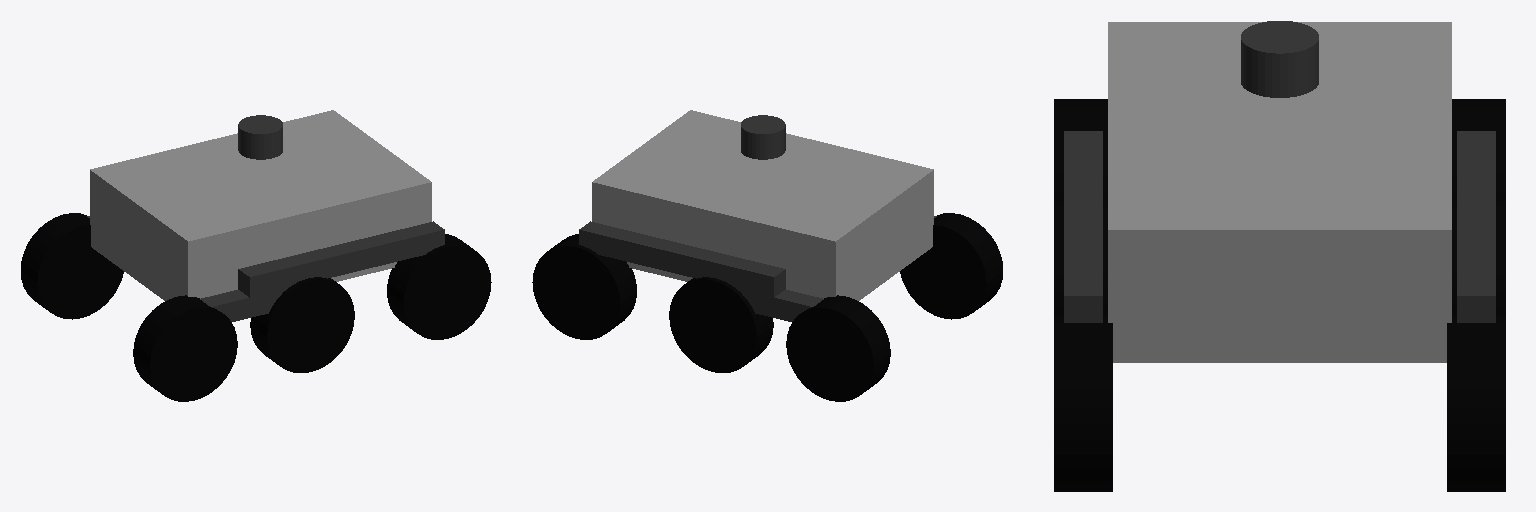
robot.urdf — benrover_skeleton:
<!--

  Squelette générique de URDF pour un rover 6 roues a suspension rocker-bogie
  (type Mars rover : Sojourner / Spirit-Opportunity / Curiosity).

  VERSION ADAPTEE POUR GAZEBO GARDEN (gz-sim7), PAS Gazebo Classic :
    - Le mesh manquant (base_link.STL) est remplace par la primitive box
      deja prevue en repli dans le fichier original.
    - Les 4 plugins <gazebo><plugin filename="libgazebo_ros_*.so"> (Classic)
      ont ete remplaces par leurs equivalents gz-sim :
        libgazebo_ros_diff_drive.so           -> gz-sim-diff-drive-system
        libgazebo_ros_joint_state_publisher.so -> gz-sim-joint-state-publisher-system
        libgazebo_ros_ray_sensor.so (lidar)     -> <sensor type="gpu_lidar">
        libgazebo_ros_imu_sensor.so             -> <sensor type="imu">
    - IMPORTANT : ces plugins/capteurs gz-sim publient uniquement sur le bus
      Gazebo Transport, pas directement sur des topics ROS 2. Un pont
      ros_gz_bridge (fichier de config separe) sera necessaire pour exposer
      /cmd_vel, /joint_states, /scan, /imu cote ROS 2. C'est l'etape suivante,
      pas geree dans ce fichier.
    - Objectif de cette version : permettre un spawn + un premier test de
      /cmd_vel et /joint_states, PAS representer fidelement BenRover.
      Dimensions/masses restent des valeurs generiques a affiner plus tard
      avec le vrai CAO SolidWorks (mates + export SW2URDF).

  CORRECTIONS APPLIQUEES (par rapport a la version precedente) :
    1. rocker_right : centre de masse <inertial><origin> corrige de
       "0.15 0 -0.02" a "0 0 -0.02" (incoherent avec rocker_left et avec
       la geometrie visuelle/collision, identique des deux cotes) -
       causait un chassis visuellement incline d'un cote.
    2. Les 4 joints de direction (steer_front_left/right,
       steer_rear_left/right) sont passes de type="revolute" a
       type="fixed". En revolute + simple damping/friction (sans ressort
       de rappel), rien ne les maintenait a 0 : l'inertie des roues lors
       des accelerations/freinages les faisait deriver de facon chaotique
       dans leur plage autorisee (+/-0.6 rad), d'ou le mouvement "aleatoire"
       observe en ligne droite. Aucune perte de capacite de virage : le
       rover tourne par difference de vitesse gauche/droite (skid steering
       via DiffDrive), pas par ces joints. Un vrai controleur de direction
       pourra etre ajoute plus tard en repassant ces joints en revolute
       avec un plugin qui les pilote activement.
-->
<robot name="benrover_skeleton">
<material name="chassis_grey">
<color rgba="0.6 0.6 0.6 1.0"/>
</material>
<material name="rocker_dark">
<color rgba="0.25 0.25 0.25 1.0"/>
</material>
<material name="wheel_black">
<color rgba="0.05 0.05 0.05 1.0"/>
</material>
<!--
 ===================== CHASSIS ===================== 
-->
<link name="base_link">
<inertial>
<origin xyz="0 0 0" rpy="0 0 0"/>
<mass value="12.0"/>
<inertia ixx="0.15" ixy="0" ixz="0" iyy="0.20" iyz="0" izz="0.25"/>
</inertial>
<visual>
<origin xyz="0 0 0" rpy="0 0 0"/>
<geometry>
<!-- Mesh STL non disponible pour l'instant -> primitive de repli en attendant le vrai CAO -->
<box size="0.5 0.35 0.15"/>
</geometry>
<material name="chassis_grey"/>
</visual>
<collision>
<origin xyz="0 0 0" rpy="0 0 0"/>
<geometry>
<box size="0.5 0.35 0.15"/>
</geometry>
</collision>
</link>
<!--
 ===================== COTE GAUCHE ===================== 
-->
<!-- Rocker gauche : bras principal de suspension -->
<link name="rocker_left">
<inertial>
<origin xyz="0 0 -0.02" rpy="0 0 0"/>
<mass value="1.2"/>
<inertia ixx="0.01" ixy="0" ixz="0" iyy="0.02" iyz="0" izz="0.02"/>
</inertial>
<visual>
<origin xyz="0 0 -0.02" rpy="0 0 0"/>
<geometry>
<box size="0.40 0.04 0.04"/>
</geometry>
<material name="rocker_dark"/>
</visual>
<collision>
<origin xyz="0 0 -0.02" rpy="0 0 0"/>
<geometry>
<box size="0.40 0.04 0.04"/>
</geometry>
</collision>
</link>
<joint name="rocker_left_joint" type="fixed"> 
<!--
 Pivot du rocker sur le chassis. Axe Y = bascule avant/arriere. 
-->
<origin xyz="0.05 0.20 0.0" rpy="0 0 0"/>
<parent link="base_link"/>
<child link="rocker_left"/>
<axis xyz="0 1 0"/>
<limit lower="-0.6" upper="0.6" effort="50" velocity="1.0"/>
<dynamics damping="0.2" friction="0.1"/>
</joint>
<!--
 Point d'ancrage possible pour la barre differentielle (voir note en tete de fichier) 
-->
<!--
 Bogie gauche : porte les roues centrale et arriere 
-->
<link name="bogie_left">
<inertial>
<origin xyz="0 0 -0.02" rpy="0 0 0"/>
<mass value="0.8"/>
<inertia ixx="0.006" ixy="0" ixz="0" iyy="0.01" iyz="0" izz="0.01"/>
</inertial>
<visual>
<origin xyz="0 0 -0.02" rpy="0 0 0"/>
<geometry>
<box size="0.26 0.04 0.04"/>
</geometry>
<material name="rocker_dark"/>
</visual>
<collision>
<origin xyz="0 0 -0.02" rpy="0 0 0"/>
<geometry>
<box size="0.26 0.04 0.04"/>
</geometry>
</collision>
</link>
<joint name="bogie_left_joint" type="revolute">
<!-- Pivot du bogie en arriere du pivot du rocker. -->
<origin xyz="-0.20 0 -0.04" rpy="0 0 0"/>
<parent link="rocker_left"/>
<child link="bogie_left"/>
<axis xyz="0 1 0"/>
<limit lower="-0.4" upper="0.4" effort="30" velocity="1.0"/>
<dynamics damping="0.2" friction="0.1"/>
</joint>
<!-- Direction avant gauche -->
<link name="steer_front_left">
<inertial>
<mass value="0.1"/>
<inertia ixx="0.0005" ixy="0" ixz="0" iyy="0.0005" iyz="0" izz="0.0005"/>
</inertial>
</link>
<!-- Joint fige (voir note de correction en tete de fichier) -->
<joint name="steer_front_left_joint" type="fixed">
<!-- Roue avant en avant du pivot du rocker. -->
<origin xyz="0.20 0 -0.12" rpy="0 0 0"/>
<parent link="rocker_left"/>
<child link="steer_front_left"/>
</joint>
<!-- Roue avant gauche -->
<link name="wheel_front_left">
<inertial>
<mass value="0.6"/>
<inertia ixx="0.002" ixy="0" ixz="0" iyy="0.003" iyz="0" izz="0.002"/>
</inertial>
<visual>
<origin xyz="0 0 0" rpy="1.5708 0 0"/>
<geometry>
<cylinder radius="0.09" length="0.06"/>
</geometry>
<material name="wheel_black"/>
</visual>
<collision>
<origin xyz="0 0 0" rpy="1.5708 0 0"/>
<geometry>
<cylinder radius="0.09" length="0.06"/>
</geometry>
</collision>
</link>
<joint name="wheel_front_left_joint" type="continuous">
<origin xyz="0 0 0" rpy="0 0 0"/>
<parent link="steer_front_left"/>
<child link="wheel_front_left"/>
<axis xyz="0 1 0"/>
<dynamics damping="0.05" friction="0.02"/>
</joint>
<gazebo reference="wheel_front_left">
<mu1>1.5</mu1>
<mu2>1.5</mu2>
<kp>100000.0</kp>
<kd>1000.0</kd>
<minDepth>0.001</minDepth>
</gazebo>
<!-- Roue centrale gauche (pas de direction) -->
<link name="wheel_middle_left">
<inertial>
<mass value="0.6"/>
<inertia ixx="0.002" ixy="0" ixz="0" iyy="0.003" iyz="0" izz="0.002"/>
</inertial>
<visual>
<origin xyz="0 0 0" rpy="1.5708 0 0"/>
<geometry>
<cylinder radius="0.09" length="0.06"/>
</geometry>
<material name="wheel_black"/>
</visual>
<collision>
<origin xyz="0 0 0" rpy="1.5708 0 0"/>
<geometry>
<cylinder radius="0.09" length="0.06"/>
</geometry>
</collision>
</link>
<joint name="wheel_middle_left_joint" type="continuous">
<!-- Roue centrale en avant du pivot du bogie. -->
<origin xyz="0.12 0 -0.08" rpy="0 0 0"/>
<parent link="bogie_left"/>
<child link="wheel_middle_left"/>
<axis xyz="0 1 0"/>
<dynamics damping="0.05" friction="0.02"/>
</joint>
<gazebo reference="wheel_middle_left">
<mu1>1.5</mu1>
<mu2>1.5</mu2>
<kp>100000.0</kp>
<kd>1000.0</kd>
<minDepth>0.001</minDepth>
</gazebo>
<!-- Direction arriere gauche -->
<link name="steer_rear_left">
<inertial>
<mass value="0.1"/>
<inertia ixx="0.0005" ixy="0" ixz="0" iyy="0.0005" iyz="0" izz="0.0005"/>
</inertial>
</link>
<!-- Joint fige (voir note de correction en tete de fichier) -->
<joint name="steer_rear_left_joint" type="fixed">
<!-- Roue arriere en arriere du pivot du bogie. -->
<origin xyz="-0.12 0 -0.08" rpy="0 0 0"/>
<parent link="bogie_left"/>
<child link="steer_rear_left"/>
</joint>
<!-- Roue arriere gauche -->
<link name="wheel_rear_left">
<inertial>
<mass value="0.6"/>
<inertia ixx="0.002" ixy="0" ixz="0" iyy="0.003" iyz="0" izz="0.002"/>
</inertial>
<visual>
<origin xyz="0 0 0" rpy="1.5708 0 0"/>
<geometry>
<cylinder radius="0.09" length="0.06"/>
</geometry>
<material name="wheel_black"/>
</visual>
<collision>
<origin xyz="0 0 0" rpy="1.5708 0 0"/>
<geometry>
<cylinder radius="0.09" length="0.06"/>
</geometry>
</collision>
</link>
<joint name="wheel_rear_left_joint" type="continuous">
<origin xyz="0 0 0" rpy="0 0 0"/>
<parent link="steer_rear_left"/>
<child link="wheel_rear_left"/>
<axis xyz="0 1 0"/>
<dynamics damping="0.05" friction="0.02"/>
</joint>
<gazebo reference="wheel_rear_left">
<mu1>1.5</mu1>
<mu2>1.5</mu2>
<kp>100000.0</kp>
<kd>1000.0</kd>
<minDepth>0.001</minDepth>
</gazebo>
<!--
 ===================== COTE DROIT (miroir) ===================== 
-->
<link name="rocker_right">
<inertial>
<!-- CORRIGE : etait "0.15 0 -0.02", recentre sur "0 0 -0.02" comme rocker_left -->
<origin xyz="0 0 -0.02" rpy="0 0 0"/>
<mass value="1.2"/>
<inertia ixx="0.01" ixy="0" ixz="0" iyy="0.02" iyz="0" izz="0.02"/>
</inertial>
<visual>
<origin xyz="0 0 -0.02" rpy="0 0 0"/>
<geometry>
<box size="0.40 0.04 0.04"/>
</geometry>
<material name="rocker_dark"/>
</visual>
<collision>
<origin xyz="0 0 -0.02" rpy="0 0 0"/>
<geometry>
<box size="0.40 0.04 0.04"/>
</geometry>
</collision>
</link>
<!--
 ici jai mis fixed pour tester sinon de base cest revolute 
-->
<joint name="rocker_right_joint" type="fixed">
<origin xyz="0.05 -0.20 0.0" rpy="0 0 0"/>
<parent link="base_link"/>
<child link="rocker_right"/>
<axis xyz="0 1 0"/>
<limit lower="-0.6" upper="0.6" effort="50" velocity="1.0"/>
<dynamics damping="0.2" friction="0.1"/>
</joint>
<link name="bogie_right">
<inertial>
<origin xyz="0 0 -0.02" rpy="0 0 0"/>
<mass value="0.8"/>
<inertia ixx="0.006" ixy="0" ixz="0" iyy="0.01" iyz="0" izz="0.01"/>
</inertial>
<visual>
<origin xyz="0 0 -0.02" rpy="0 0 0"/>
<geometry>
<box size="0.26 0.04 0.04"/>
</geometry>
<material name="rocker_dark"/>
</visual>
<collision>
<origin xyz="0 0 -0.02" rpy="0 0 0"/>
<geometry>
<box size="0.26 0.04 0.04"/>
</geometry>
</collision>
</link>
<joint name="bogie_right_joint" type="revolute">
<origin xyz="-0.20 0 -0.04" rpy="0 0 0"/>
<parent link="rocker_right"/>
<child link="bogie_right"/>
<axis xyz="0 1 0"/>
<limit lower="-0.4" upper="0.4" effort="30" velocity="1.0"/>
<dynamics damping="0.2" friction="0.1"/>
</joint>
<link name="steer_front_right">
<inertial>
<mass value="0.1"/>
<inertia ixx="0.0005" ixy="0" ixz="0" iyy="0.0005" iyz="0" izz="0.0005"/>
</inertial>
</link>
<!-- Joint fige (voir note de correction en tete de fichier) -->
<joint name="steer_front_right_joint" type="fixed">
<origin xyz="0.20 0 -0.12" rpy="0 0 0"/>
<parent link="rocker_right"/>
<child link="steer_front_right"/>
</joint>
<link name="wheel_front_right">
<inertial>
<mass value="0.6"/>
<inertia ixx="0.002" ixy="0" ixz="0" iyy="0.003" iyz="0" izz="0.002"/>
</inertial>
<visual>
<origin xyz="0 0 0" rpy="1.5708 0 0"/>
<geometry>
<cylinder radius="0.09" length="0.06"/>
</geometry>
<material name="wheel_black"/>
</visual>
<collision>
<origin xyz="0 0 0" rpy="1.5708 0 0"/>
<geometry>
<cylinder radius="0.09" length="0.06"/>
</geometry>
</collision>
</link>
<joint name="wheel_front_right_joint" type="continuous">
<origin xyz="0 0 0" rpy="0 0 0"/>
<parent link="steer_front_right"/>
<child link="wheel_front_right"/>
<axis xyz="0 1 0"/>
<dynamics damping="0.05" friction="0.02"/>
</joint>
<gazebo reference="wheel_front_right">
<mu1>1.5</mu1>
<mu2>1.5</mu2>
<kp>100000.0</kp>
<kd>1000.0</kd>
<minDepth>0.001</minDepth>
</gazebo>
<link name="wheel_middle_right">
<inertial>
<mass value="0.6"/>
<inertia ixx="0.002" ixy="0" ixz="0" iyy="0.003" iyz="0" izz="0.002"/>
</inertial>
<visual>
<origin xyz="0 0 0" rpy="1.5708 0 0"/>
<geometry>
<cylinder radius="0.09" length="0.06"/>
</geometry>
<material name="wheel_black"/>
</visual>
<collision>
<origin xyz="0 0 0" rpy="1.5708 0 0"/>
<geometry>
<cylinder radius="0.09" length="0.06"/>
</geometry>
</collision>
</link>
<joint name="wheel_middle_right_joint" type="continuous">
<origin xyz="0.12 0 -0.08" rpy="0 0 0"/>
<parent link="bogie_right"/>
<child link="wheel_middle_right"/>
<axis xyz="0 1 0"/>
<dynamics damping="0.05" friction="0.02"/>
</joint>
<gazebo reference="wheel_middle_right">
<mu1>1.5</mu1>
<mu2>1.5</mu2>
<kp>100000.0</kp>
<kd>1000.0</kd>
<minDepth>0.001</minDepth>
</gazebo>
<link name="steer_rear_right">
<inertial>
<mass value="0.1"/>
<inertia ixx="0.0005" ixy="0" ixz="0" iyy="0.0005" iyz="0" izz="0.0005"/>
</inertial>
</link>
<!-- Joint fige (voir note de correction en tete de fichier) -->
<joint name="steer_rear_right_joint" type="fixed">
<origin xyz="-0.12 0 -0.08" rpy="0 0 0"/>
<parent link="bogie_right"/>
<child link="steer_rear_right"/>
</joint>
<link name="wheel_rear_right">
<inertial>
<mass value="0.6"/>
<inertia ixx="0.002" ixy="0" ixz="0" iyy="0.003" iyz="0" izz="0.002"/>
</inertial>
<visual>
<origin xyz="0 0 0" rpy="1.5708 0 0"/>
<geometry>
<cylinder radius="0.09" length="0.06"/>
</geometry>
<material name="wheel_black"/>
</visual>
<collision>
<origin xyz="0 0 0" rpy="1.5708 0 0"/>
<geometry>
<cylinder radius="0.09" length="0.06"/>
</geometry>
</collision>
</link>
<joint name="wheel_rear_right_joint" type="continuous">
<origin xyz="0 0 0" rpy="0 0 0"/>
<parent link="steer_rear_right"/>
<child link="wheel_rear_right"/>
<axis xyz="0 1 0"/>
<dynamics damping="0.05" friction="0.02"/>
</joint>
<gazebo reference="wheel_rear_right">
<mu1>1.5</mu1>
<mu2>1.5</mu2>
<kp>100000.0</kp>
<kd>1000.0</kd>
<minDepth>0.001</minDepth>
</gazebo>
<!--
 ===================== CAPTEURS =====================
       Positions placeholder : a ajuster une fois les vraies cotes connues.
       Syntaxe gz-sim native (pas de plugin par capteur individuel comme en
       Classic) : le <topic> definit le nom sur le bus Gazebo Transport.
       Necessite que le monde charge le system "gz-sim-sensors-system"
       (a ajouter au niveau du world SDF, pas ici) pour que ces capteurs
       soient effectivement simules.
  
-->
<!-- LIDAR : place au sommet du chassis, centre -->
<link name="lidar_link">
<inertial>
<mass value="0.15"/>
<inertia ixx="0.0001" ixy="0" ixz="0" iyy="0.0001" iyz="0" izz="0.0001"/>
</inertial>
<visual>
<geometry>
<cylinder radius="0.04" length="0.05"/>
</geometry>
<material name="rocker_dark"/>
</visual>
<collision>
<geometry>
<cylinder radius="0.04" length="0.05"/>
</geometry>
</collision>
</link>
<joint name="lidar_joint" type="fixed">
<origin xyz="0 0 0.15" rpy="0 0 0"/>
<parent link="base_link"/>
<child link="lidar_link"/>
</joint>
<gazebo reference="lidar_link">
<sensor name="lidar_sensor" type="gpu_lidar">
<topic>scan</topic>
<update_rate>10</update_rate>
<always_on>true</always_on>
<visualize>false</visualize>
<lidar>
<scan>
<horizontal>
<samples>360</samples>
<resolution>1</resolution>
<min_angle>-3.14159</min_angle>
<max_angle>3.14159</max_angle>
</horizontal>
</scan>
<range>
<min>0.10</min>
<max>12.0</max>
<resolution>0.01</resolution>
</range>
</lidar>
</sensor>
</gazebo>
<!-- IMU : place au centre du chassis -->
<link name="imu_link">
<inertial>
<mass value="0.05"/>
<inertia ixx="0.00002" ixy="0" ixz="0" iyy="0.00002" iyz="0" izz="0.00002"/>
</inertial>
</link>
<joint name="imu_joint" type="fixed">
<origin xyz="0 0 0.02" rpy="0 0 0"/>
<parent link="base_link"/>
<child link="imu_link"/>
</joint>
<gazebo reference="imu_link">
<sensor name="imu_sensor" type="imu">
<topic>imu</topic>
<always_on>true</always_on>
<update_rate>100</update_rate>
</sensor>
</gazebo>
<!--
 ===================== PLUGINS GAZEBO SIM (Garden / gz-sim7) =====================
       Remplacent les plugins Gazebo Classic du fichier original. Publient
       sur le bus Gazebo Transport : un pont ros_gz_bridge (a configurer
       separement) sera necessaire pour exposer ces topics cote ROS 2.
  
-->
<!--
 Encodeurs de roues + articulations -> etat reel (physique) sur le bus gz.
       Remplace le joint_state_publisher_gui (qui ne fait que rejouer des
       valeurs arbitraires) : ici les positions/vitesses viennent du moteur
       physique de Gazebo.
       NOTE : les joints steer_* etant desormais "fixed", ils n'ont plus
       d'etat mobile a publier - retires de la liste ci-dessous (un joint
       fixed n'apparait jamais dans /joint_states, que ce soit liste ou non). 
-->
<gazebo>
<plugin filename="gz-sim-joint-state-publisher-system" name="gz::sim::systems::JointStatePublisher">
<topic>joint_states</topic>
<update_rate>50</update_rate>
<joint_name>rocker_left_joint</joint_name>
<joint_name>bogie_left_joint</joint_name>
<joint_name>wheel_front_left_joint</joint_name>
<joint_name>wheel_middle_left_joint</joint_name>
<joint_name>wheel_rear_left_joint</joint_name>
<joint_name>rocker_right_joint</joint_name>
<joint_name>bogie_right_joint</joint_name>
<joint_name>wheel_front_right_joint</joint_name>
<joint_name>wheel_middle_right_joint</joint_name>
<joint_name>wheel_rear_right_joint</joint_name>
</plugin>
</gazebo>
<gazebo>
<plugin filename="gz-sim-diff-drive-system" name="gz::sim::systems::DiffDrive">
<left_joint>wheel_front_left_joint</left_joint>
<left_joint>wheel_middle_left_joint</left_joint>
<left_joint>wheel_rear_left_joint</left_joint>
<right_joint>wheel_front_right_joint</right_joint>
<right_joint>wheel_middle_right_joint</right_joint>
<right_joint>wheel_rear_right_joint</right_joint>
<wheel_separation>0.40</wheel_separation>
<wheel_radius>0.09</wheel_radius>
<odom_publish_frequency>30</odom_publish_frequency>
<topic>cmd_vel</topic>
<odom_topic>odom</odom_topic>
<frame_id>odom</frame_id>
<child_frame_id>base_link</child_frame_id>
<tf_topic>/tf_raw_gazebo</tf_topic>
</plugin>
</gazebo>
</robot>

--- Render facts (derived) ---
The picture shows the robot from 3 angles, left to right: view 1: azimuth 30°, elevation 25°; view 2: azimuth 150°, elevation 25°; view 3: azimuth 270°, elevation 25°; orthographic projection.
Robot: benrover_skeleton — 17 links, 16 joints (2 revolute, 6 continuous, 8 fixed); root link base_link; default pose: all joints at 0.
Links seen in each view (by area): view 1: base_link, wheel_rear_right, wheel_front_right, wheel_rear_left, wheel_middle_right, rocker_right, lidar_link, bogie_right; view 2: base_link, wheel_rear_left, wheel_front_left, wheel_rear_right, wheel_middle_left, rocker_left, lidar_link, bogie_left; view 3: base_link, wheel_front_left, wheel_front_right, rocker_left, rocker_right, lidar_link, wheel_rear_left, wheel_rear_right, wheel_middle_left, wheel_middle_right.
Link boxes in pixels (<box>): base_link: <box>90,110,431,300</box>; wheel_rear_right: <box>133,295,237,401</box>; wheel_front_right: <box>387,234,491,339</box>; wheel_rear_left: <box>21,213,123,319</box>; wheel_middle_right: <box>250,277,354,372</box>; rocker_right: <box>238,221,444,297</box>; lidar_link: <box>238,115,282,159</box>; bogie_right: <box>200,288,287,321</box>; base_link: <box>592,110,933,300</box>; wheel_rear_left: <box>786,295,890,401</box>; wheel_front_left: <box>532,234,636,339</box>; wheel_rear_right: <box>900,213,1002,319</box>; wheel_middle_left: <box>669,277,773,372</box>; rocker_left: <box>579,221,785,297</box>; lidar_link: <box>741,115,785,159</box>; bogie_left: <box>736,288,823,321</box>; base_link: <box>1108,22,1451,362</box>; wheel_front_left: <box>1447,315,1505,491</box>; wheel_front_right: <box>1054,315,1112,491</box>; rocker_left: <box>1457,131,1495,322</box>; rocker_right: <box>1064,131,1102,322</box>; lidar_link: <box>1241,21,1318,97</box>; wheel_rear_left: <box>1452,99,1505,198</box>; wheel_rear_right: <box>1054,99,1107,198</box>; wheel_middle_left: <box>1452,199,1505,314</box>; wheel_middle_right: <box>1054,199,1107,314</box>.
Size in the robot's own frame: 0.7 by 0.46 by 0.385 metres.
Geometry: primitives only (box / cylinder / sphere), no mesh files.
